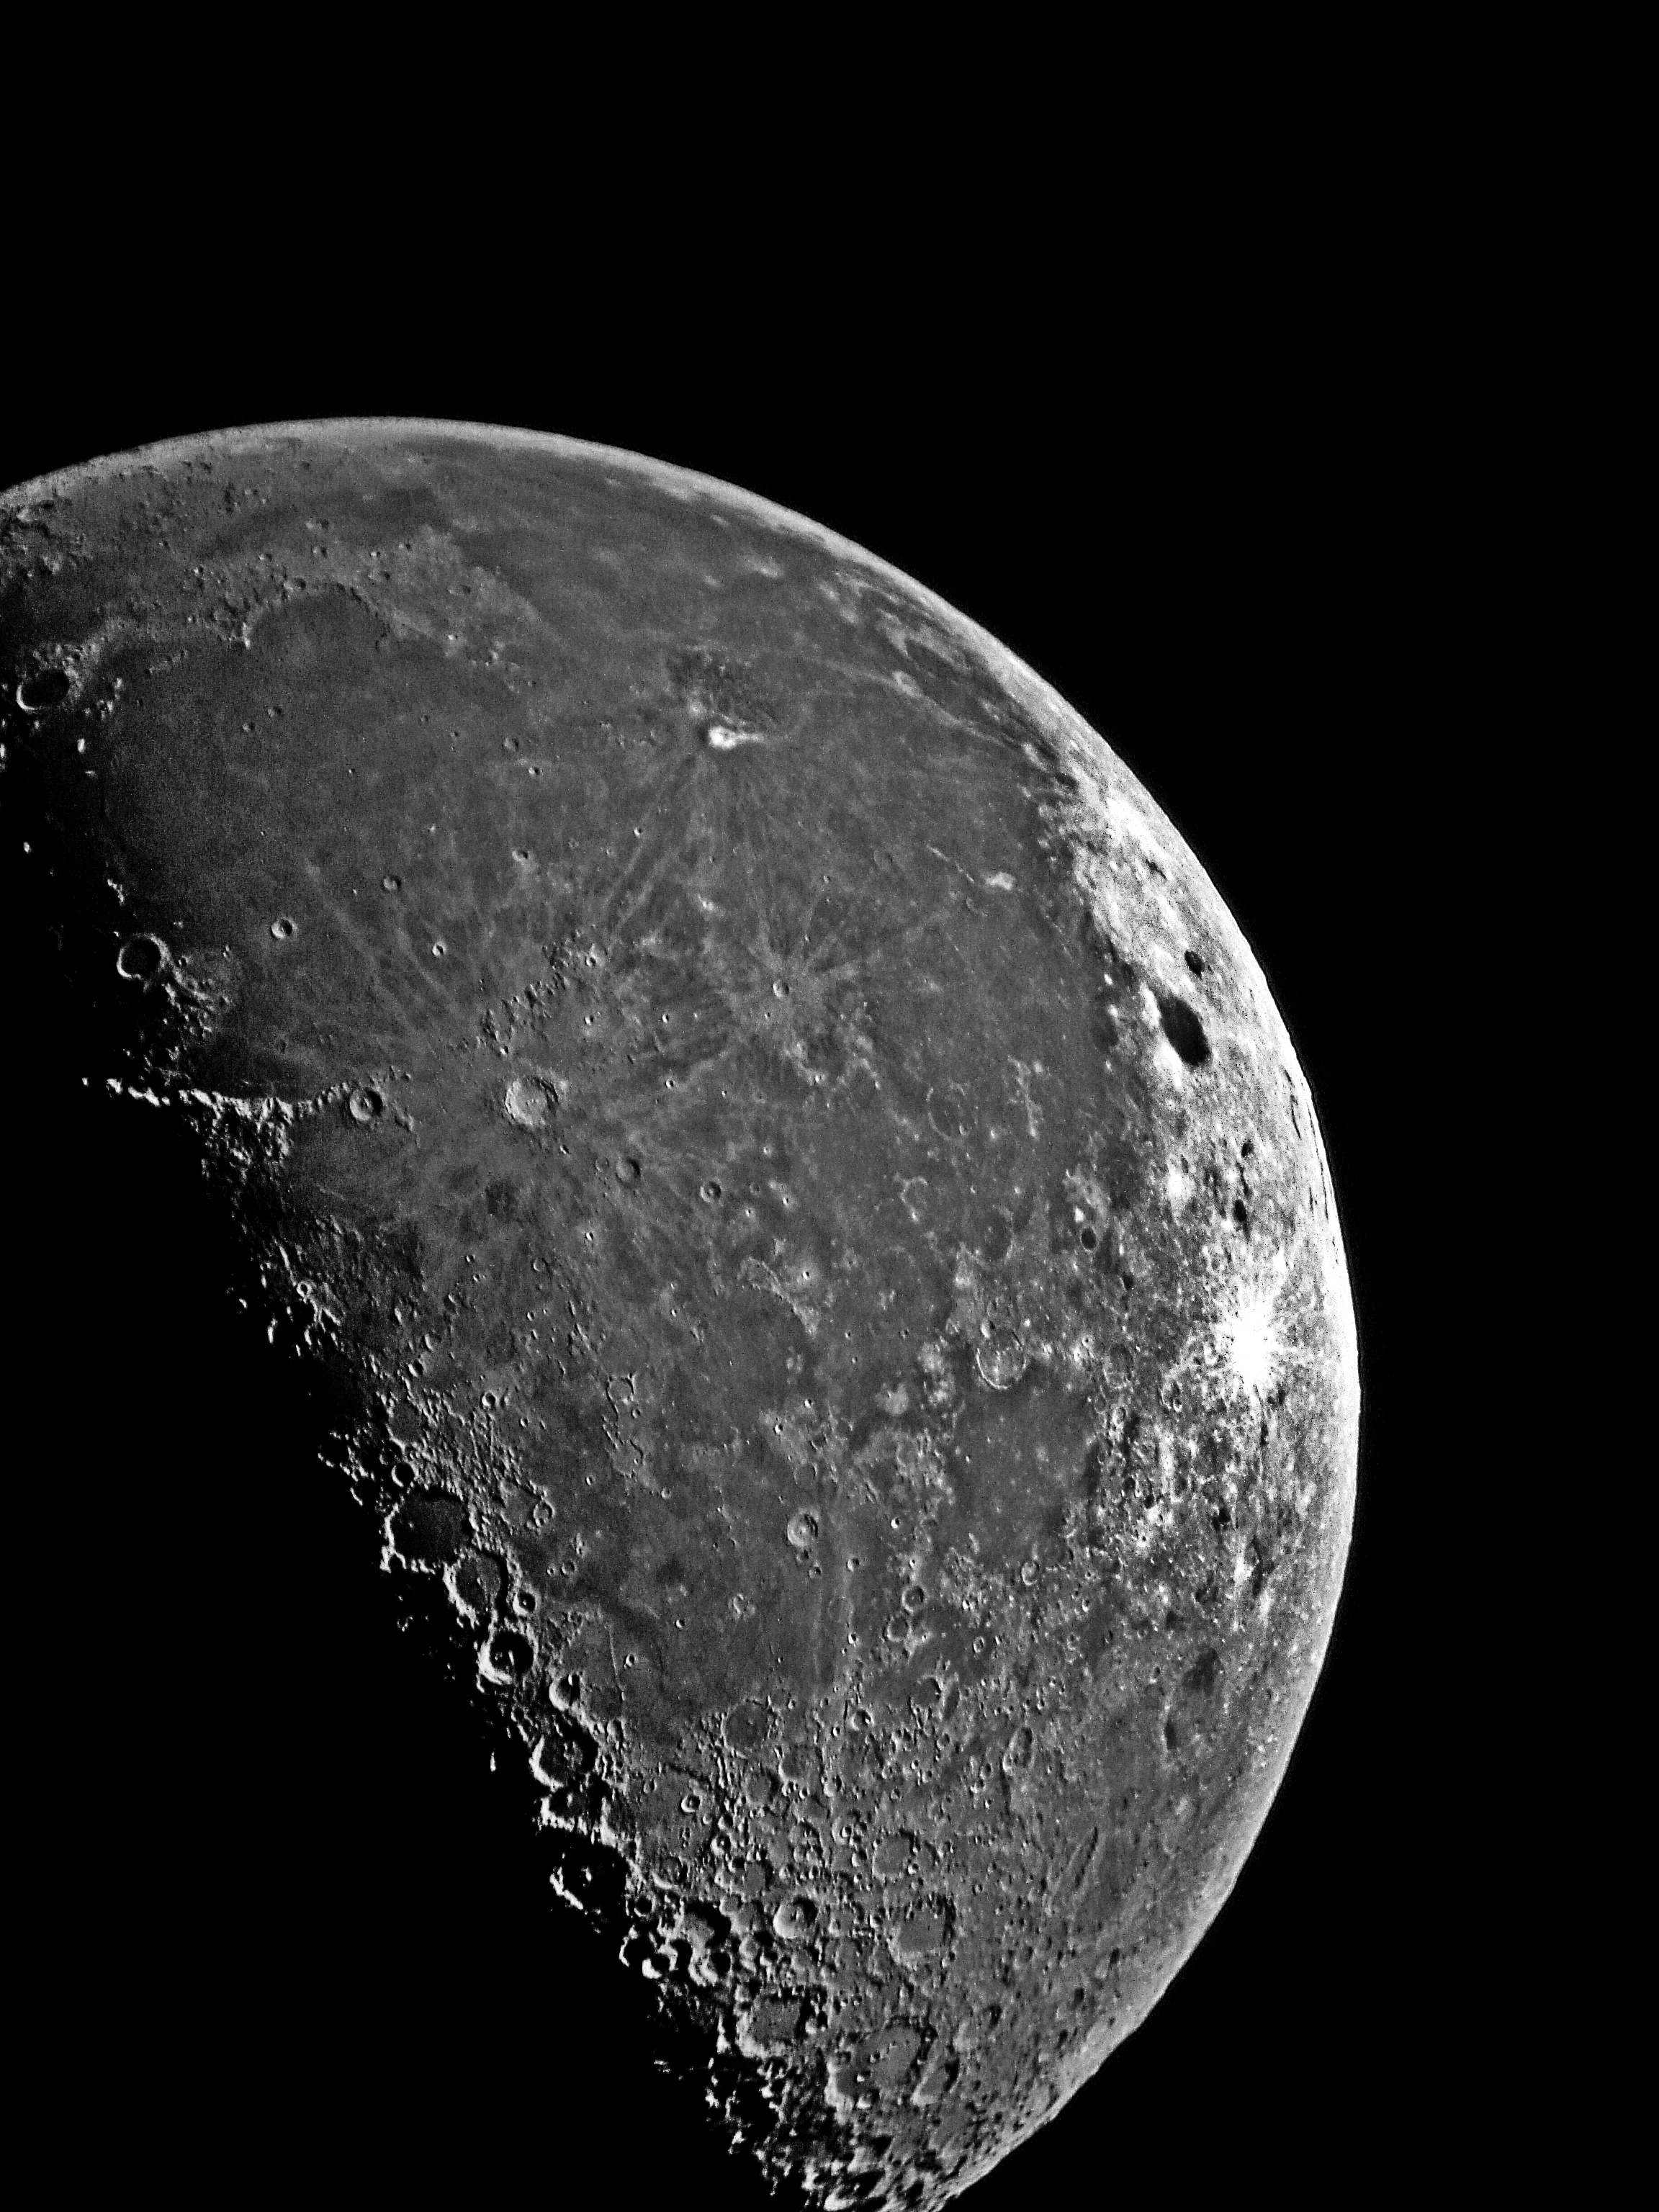crater: (1154, 1202, 1330, 1449), (720, 918, 866, 1064), (1098, 975, 1220, 1106), (357, 1461, 483, 1585), (3, 657, 134, 773), (464, 1038, 584, 1151), (92, 914, 213, 1008), (1157, 1641, 1239, 1777), (866, 1886, 983, 1975), (685, 702, 784, 780), (253, 883, 329, 968), (1049, 1818, 1108, 1928), (688, 1151, 758, 1240), (716, 1689, 784, 1754), (289, 498, 359, 550), (777, 1508, 835, 1568), (1162, 927, 1218, 988)
